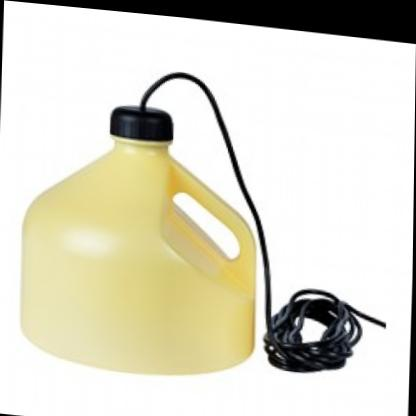Lamp: (5, 29, 306, 416)
